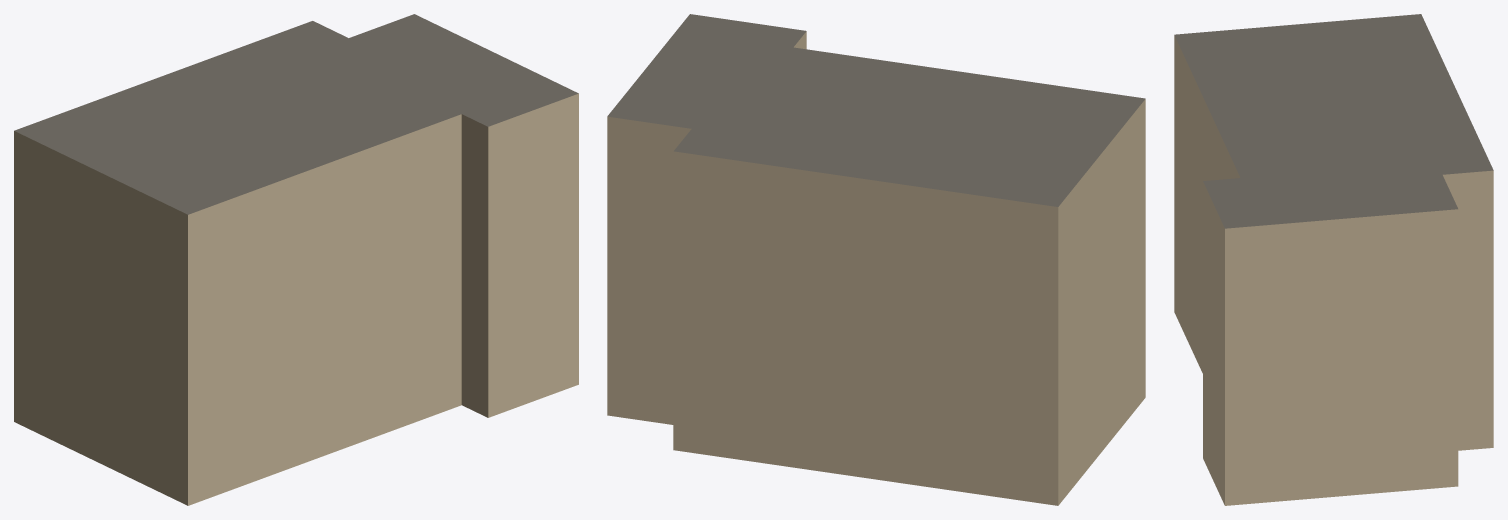
The picture shows the model from 3 angles, left to right: view 1: azimuth 30°, elevation 25°; view 2: azimuth 150°, elevation 25°; view 3: azimuth 270°, elevation 25°; orthographic projection. The views are drawn at different scales.
Visible parts, largest first — view 1: HP-w1416877655; view 2: HP-w1416877655; view 3: HP-w1416877655.
Part boxes in pixels (box(x1,y1,x2,y2)): HP-w1416877655: box(14, 14, 578, 505); HP-w1416877655: box(607, 14, 1145, 505); HP-w1416877655: box(1174, 14, 1493, 505).
Size of the model in its own units: 32.87 by 19.8 by 20.68.
